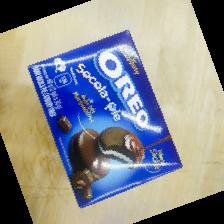Oreo: (27, 30, 183, 210)
